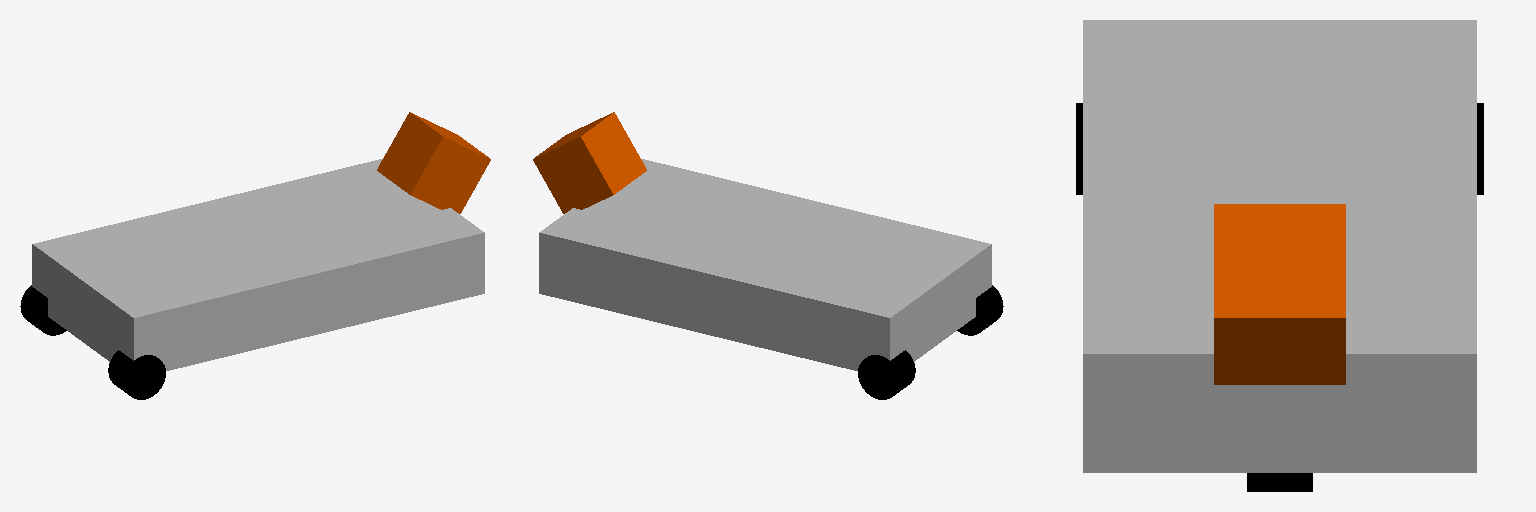
The robot description file, URDF, robot "landing_car":
<?xml version="1.0"?>
<robot name="landing_car">

  <link name="base_link">
    <visual>
      <geometry>
        <box size="0.6 0.3 0.1"/>
      </geometry>
      <material name="silver">
        <color rgba="0.75 0.75 0.75 1"/>
      </material>
      <origin rpy="0 0 0" xyz="0 0 -0.1"/>
    </visual>
    <collision>
      <geometry>
        <box size="0.6 0.3 0.1"/>
      </geometry>
    </collision>
    <inertial>
      <mass value="0.33"/>
      <inertia ixx="0.00270" iyy="0.0101" izz="0.0123" ixy="0" ixz="0" iyz="0"/>
    </inertial>
  </link>
    <gazebo reference="base_link">
        <material>Gazebo/Yellow</material>
    </gazebo> 

  <link name="front_caster">
    <visual>
      <geometry>
        <box size="0.1 0.1 0.1"/>
      </geometry>
      <material name="silver"/>
      <origin rpy="0 0 0" xyz="0 0 -0.11"/>
    </visual>
    <collision>
      <geometry>
        <box size="0.1 0.1 0.1"/>
      </geometry>
    </collision>
    <inertial>
      <mass value="0.1"/><!--wh,dh,dw-->
      <inertia ixx="0.0001" iyy="0.0001" izz="0.0001" ixy="0" ixz="0" iyz="0"/>
    </inertial>
  </link>
    <gazebo reference="front_caster">
        <material>Gazebo/Black</material>
    </gazebo> 

  <joint name="front_caster_joint" type="continuous">
    <axis xyz="0 0 1"/>
    <parent link="base_link"/>
    <child link="front_caster"/>
    <origin rpy="0 0 0" xyz="0.2 0 0"/>
  </joint>

  <link name="front_wheel">
    <visual>
      <geometry>
        <cylinder length="0.05" radius="0.035"/>
      </geometry>
      <material name="black"/>
    </visual>
    <collision>
      <geometry>
        <cylinder length="0.05" radius="0.035"/>
      </geometry>
    </collision>
    <inertial>
      <mass value="0.1"/>
      <inertia ixx="5.1458e-5" iyy="5.1458e-5" izz="6.125e-5" ixy="0" ixz="0" iyz="0"/>
    </inertial>
  </link>
    <gazebo reference="front_wheel">
        <material>Gazebo/Red</material>
    </gazebo> 

  <joint name="front_wheel_joint" type="continuous">
    <axis xyz="0 0 1"/>
    <parent link="front_caster"/>
    <child link="front_wheel"/>
    <origin rpy="-1.5708 0 0" xyz="0.05 0 -.15"/>
  </joint>

  <link name="right_wheel">
    <visual>
      <geometry>
        <cylinder length="0.05" radius="0.035"/>
      </geometry>
      <material name="black">
        <color rgba="0 0 0 1"/>
      </material>
    </visual>
    <collision>
      <geometry>
        <cylinder length="0.05" radius="0.035"/>
      </geometry>
    </collision>
    <inertial>
      <mass value="0.1"/>
      <inertia ixx="5.1458e-5" iyy="5.1458e-5" izz="6.125e-5" ixy="0" ixz="0" iyz="0"/>
    </inertial>
  </link>
    <gazebo reference="right_wheel">
        <material>Gazebo/Black</material>
    </gazebo> 

  <joint name="right_wheel_joint" type="continuous">
    <axis xyz="0 0 1"/>
    <parent link="base_link"/>
    <child link="right_wheel"/>
    <origin rpy="-1.5708 0 0" xyz="-0.2825 -0.13 -.15"/>
  </joint>

  <link name="left_wheel">
    <visual>
      <geometry>
        <cylinder length="0.05" radius="0.035"/>
      </geometry>
      <material name="black"/>
    </visual>
    <collision>
      <geometry>
        <cylinder length="0.05" radius="0.035"/>
      </geometry>
    </collision>
    <inertial>
      <mass value="0.1"/>
      <inertia ixx="5.1458e-5" iyy="5.1458e-5" izz="6.125e-5" ixy="0" ixz="0" iyz="0"/>
    </inertial>
  </link>
    <gazebo reference="left_wheel">
        <material>Gazebo/Black</material>
    </gazebo> 

  <joint name="left_wheel_joint" type="continuous">
    <axis xyz="0 0 1"/>
    <parent link="base_link"/>
    <child link="left_wheel"/>
    <origin rpy="-1.5708 0 0" xyz="-0.2825 0.13 -.15"/>
  </joint>

  <link name="camera_link">
    <collision>
      <origin xyz="0 0 0" rpy="0 0 0"/>
      <geometry>
        <box size="0.1 0.1 0.1"/>
      </geometry>
    </collision>
    <visual>
      <origin xyz="0 0 0" rpy="0 0.4 0"/>
      <geometry>
        <box size="0.1 0.1 0.1"/>
      </geometry>
    </visual>
    <inertial>
      <mass value="1e-5" />
      <origin xyz="0 0 0" rpy="0 0 0"/>
      <inertia ixx="1e-6" ixy="0" ixz="0" iyy="1e-6" iyz="0" izz="1e-6" />
    </inertial>
  </link>
    <gazebo reference="camera_link">
        <material>Gazebo/Blue</material>
    </gazebo> 

  <joint name="camera_joint" type="fixed">
    <axis xyz="0 1 0" />
    <origin xyz="0.3 0 0" rpy="0 0.2 0"/>
    <parent link="base_link"/>
    <child link="camera_link"/>
  </joint>

  <gazebo>
    <plugin name="differential_drive_controller" filename="libgazebo_ros_diff_drive.so">
      <leftJoint>right_wheel_joint</leftJoint>
      <rightJoint>left_wheel_joint</rightJoint>
      <robotBaseFrame>base_link</robotBaseFrame>
      <wheelSeparation>0.26</wheelSeparation>
      <wheelDiameter>0.07</wheelDiameter>
      <commandTopic>cmd_vel</commandTopic>
      <legacyMode>true</legacyMode>
      <publishWheelJointState>true</publishWheelJointState>
    </plugin>
  </gazebo>

  <gazebo>
    <plugin name="joint_state_publisher" filename="libgazebo_ros_joint_state_publisher.so">
      <jointName>front_caster_joint, front_wheel_joint</jointName>
    </plugin>
  </gazebo>

  <gazebo reference="camera_link">
	<sensor type="camera" name="camera_node">
		<pose>0 0 0 0 0 0</pose>
                <update_rate>60.0</update_rate>
                <camera name="head">
                    <horizontal_fov>1.3962634</horizontal_fov>
                    <image>
                        <width>1280</width>
                        <height>720</height>
                        <format>R8G8B8</format>
                    </image>
                    <clip>
                        <near>0.02</near>
                        <far>300</far>
                    </clip>
                    <noise>
                        <type>gaussian</type>
                        <mean>0.0</mean>
                        <stddev>0.007</stddev>
                    </noise>
                </camera>
                <plugin name="gazebo_camera" filename="libgazebo_ros_camera.so">
                    <alwaysOn>true</alwaysOn>
                    <updateRate>0.0</updateRate>
                    <cameraName>/camera</cameraName>
                    <imageTopicName>image_raw</imageTopicName>
                    <cameraInfoTopicName>camera_info</cameraInfoTopicName>
                    <frameName>camera_link</frameName>
                    <hackBaseline>0.07</hackBaseline>
                    <distortionK1>0.0</distortionK1>
                    <distortionK2>0.0</distortionK2>
                    <distortionK3>0.0</distortionK3>
                    <distortionT1>0.0</distortionT1>
                    <distortionT2>0.0</distortionT2>
                </plugin>
            </sensor>
  </gazebo>
</robot>

--- Render facts (derived) ---
3 views of the same robot in one strip: view 1: azimuth 30°, elevation 25°; view 2: azimuth 150°, elevation 25°; view 3: azimuth 270°, elevation 25° (orthographic).
Model landing_car with 6 links and 5 joints (4 continuous, 1 fixed), rooted at base_link, posed all joints at 0.
Links seen in each view (by area): view 1: base_link, camera_link, right_wheel, left_wheel; view 2: base_link, camera_link, left_wheel, right_wheel; view 3: base_link, camera_link, front_wheel, right_wheel, left_wheel.
Boxes of the visible links, left/top/right/bottom form: base_link: left=32, top=159, right=484, bottom=370; camera_link: left=377, top=112, right=490, bottom=213; right_wheel: left=108, top=350, right=165, bottom=399; left_wheel: left=20, top=285, right=66, bottom=335; base_link: left=539, top=159, right=991, bottom=370; camera_link: left=533, top=112, right=646, bottom=213; left_wheel: left=858, top=350, right=915, bottom=399; right_wheel: left=957, top=285, right=1003, bottom=335; base_link: left=1083, top=20, right=1476, bottom=472; camera_link: left=1214, top=204, right=1345, bottom=384; front_wheel: left=1247, top=473, right=1312, bottom=491; right_wheel: left=1076, top=103, right=1082, bottom=194; left_wheel: left=1477, top=103, right=1483, bottom=194.
Bounding box of the posed robot: 0.687 × 0.31 × 0.2545 m (x, y, z).
Geometry: primitives only (box / cylinder / sphere), no mesh files.